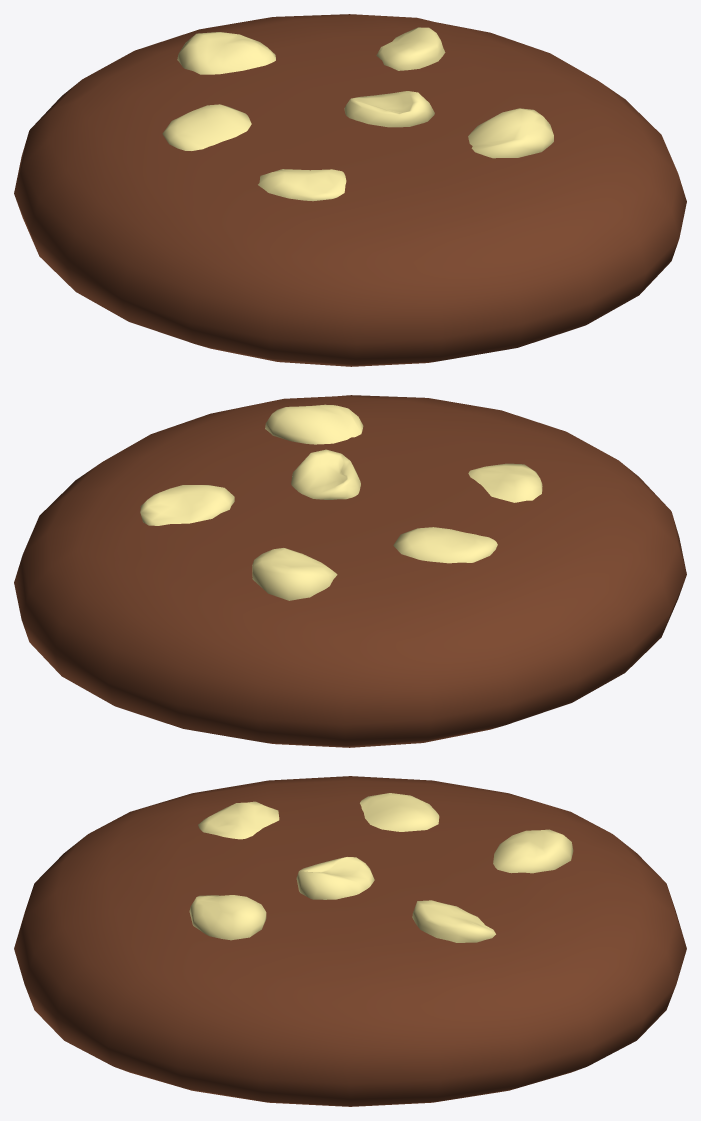
The model's file is CookieNut_02.fbx.
3 renders of one model, top to bottom at view 1: azimuth 30°, elevation 25°; view 2: azimuth 150°, elevation 25°; view 3: azimuth 270°, elevation 25°, orthographic. The views are drawn at different scales.
Parts seen in each view (by area): view 1: CookieNut_02_LOD0; view 2: CookieNut_02_LOD0; view 3: CookieNut_02_LOD0.
Boxes of the visible parts, x1,y1,x2,y2 form: CookieNut_02_LOD0: (14, 14, 686, 366); CookieNut_02_LOD0: (14, 395, 686, 747); CookieNut_02_LOD0: (14, 776, 686, 1106).
Size of what is drawn, in the model's own units: 468 by 119 by 493.
